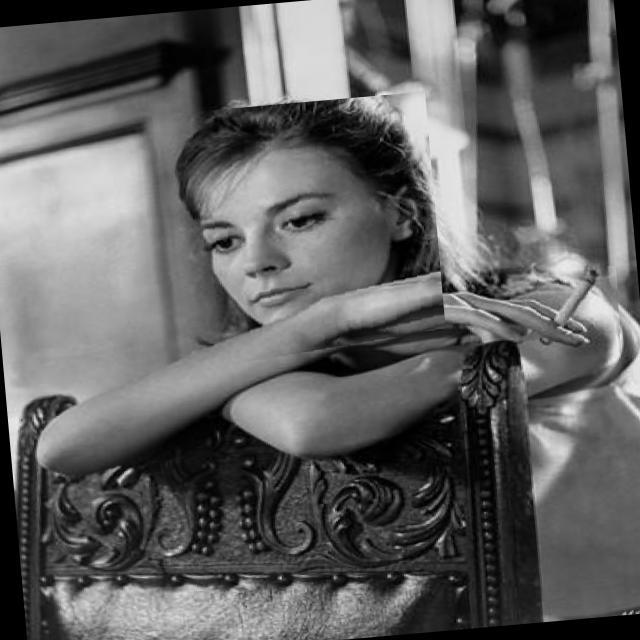cigarette: (530, 240, 624, 359)
